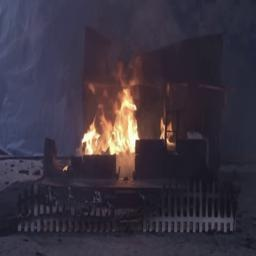fire: (84, 62, 149, 160)
